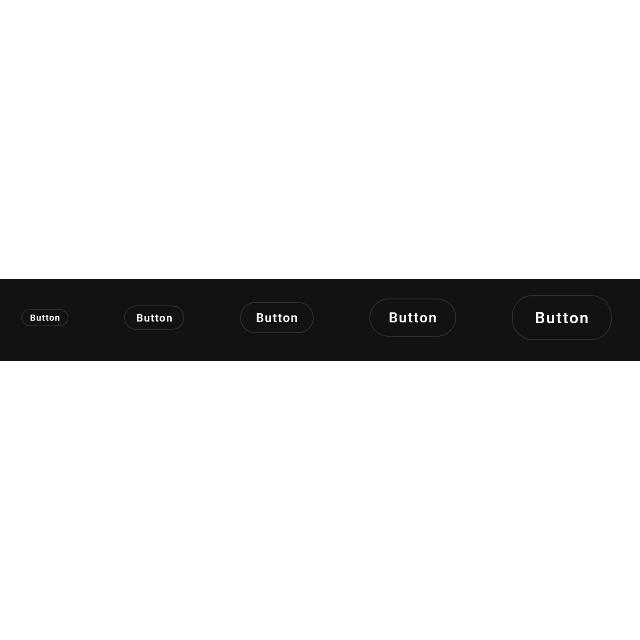QLabel: (534, 312, 590, 324), (388, 312, 438, 324), (255, 313, 299, 323), (136, 314, 172, 322), (30, 314, 60, 322)
VBtn: (511, 294, 614, 342), (369, 298, 457, 338), (240, 302, 314, 334), (124, 305, 184, 331), (21, 309, 69, 327)
